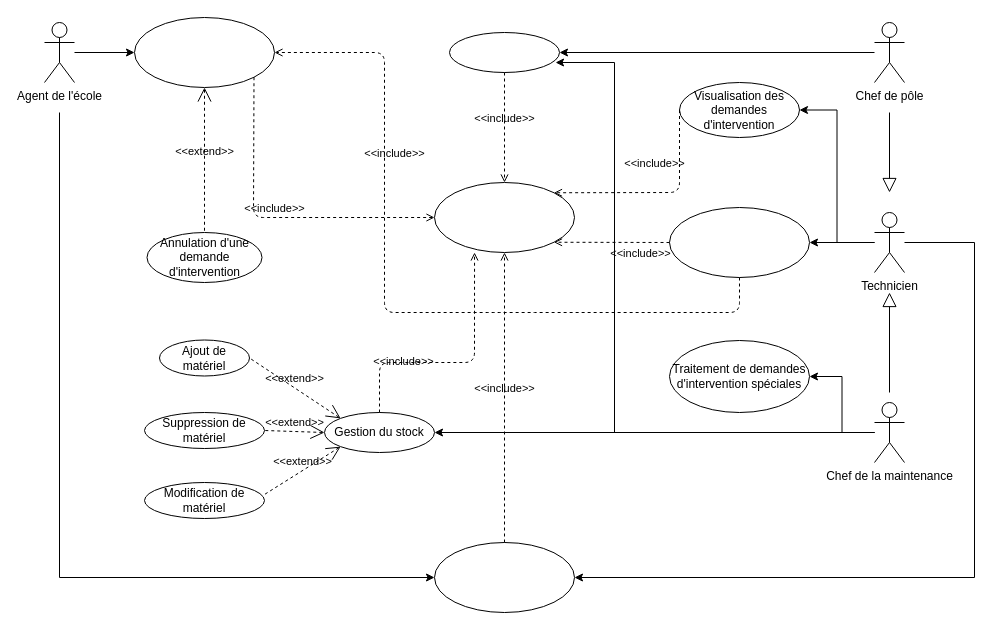
This 1000x630 diagram has some shape labels left out. The centre of each missing label's shape, as x and y in pixels:
Authentification: the point at 504,217
demande d'intervention: the point at 204,52
Déconnexion: the point at 504,577
Traitement de demandes d'intervention simples: the point at 739,242
Visualisation des statistiques: the point at 504,52
